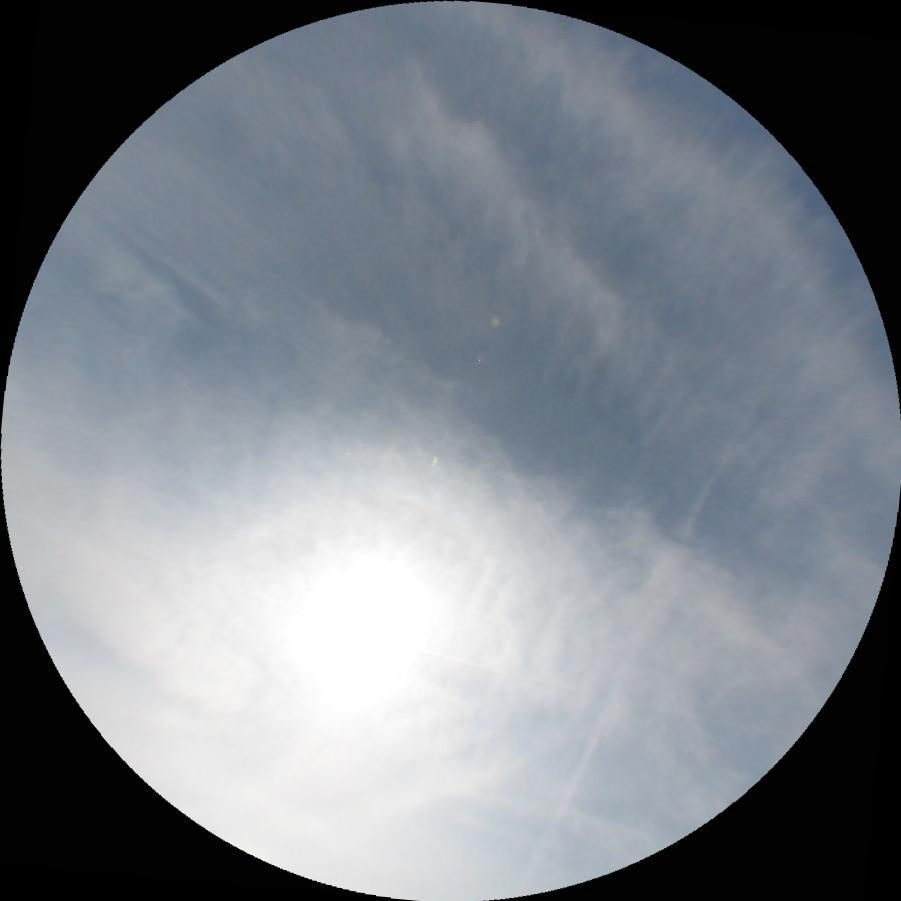contrail veryold: (521, 431, 739, 881)
contrail young: (182, 563, 547, 691)
sun: (268, 532, 444, 729)
